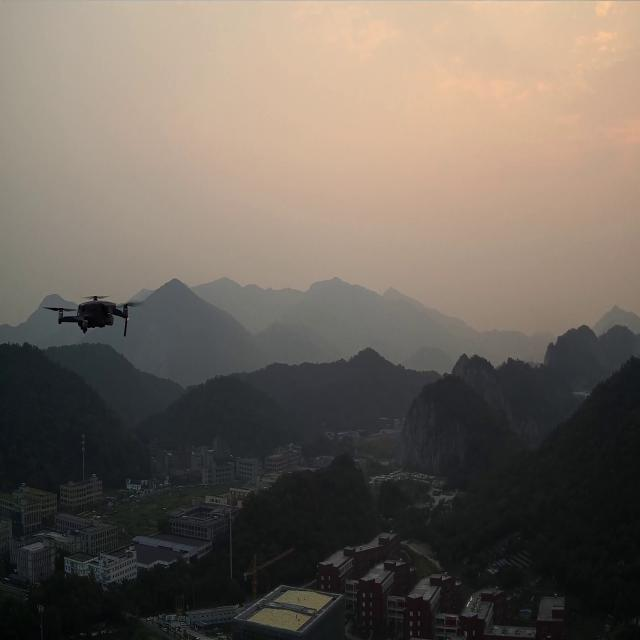UAV: (40, 290, 149, 341)
